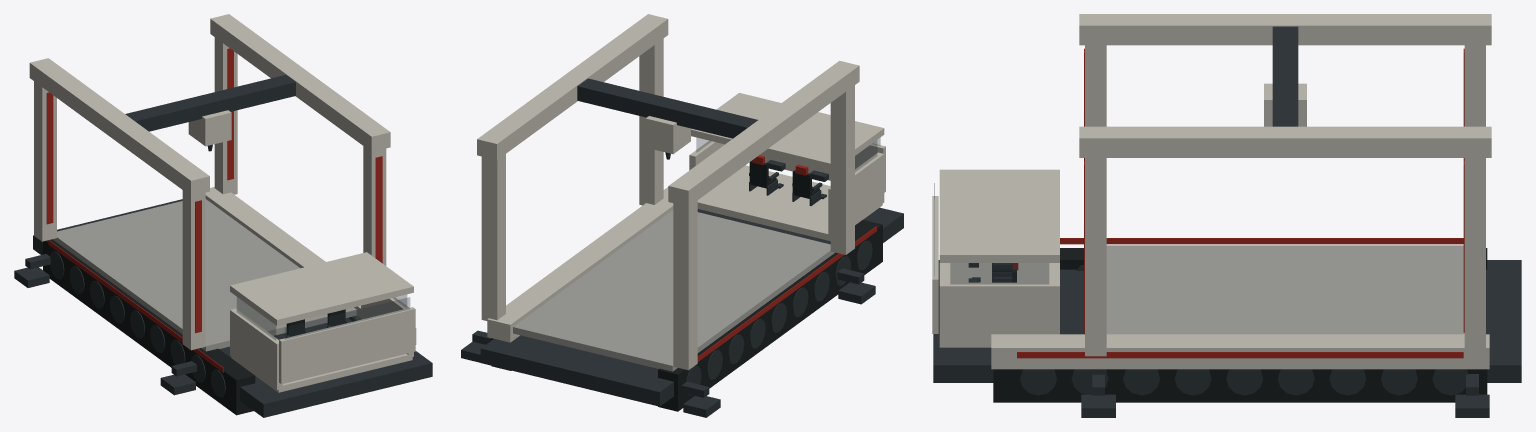
3 renders of one model, left to right at view 1: azimuth 30°, elevation 25°; view 2: azimuth 150°, elevation 25°; view 3: azimuth 270°, elevation 25°, orthographic. The views are drawn at different scales.
Visible parts, largest first — view 1: mobile-fabricator-painted, printer-gantry-painted, breakaway-1-painted, mobile-fabricator-glazing, printer-head-painted, stabilizer--1--5.7-painted, stabilizer--1-3-painted, crew-seating-batch-painted; view 2: mobile-fabricator-painted, breakaway-1-painted, printer-gantry-painted, crew-seating-batch-painted, printer-head-painted, stabilizer--1--5.7-painted, stabilizer--1-3-painted, stabilizer-1--5.7-painted, mobile-fabricator-glazing; view 3: mobile-fabricator-painted, breakaway-1-painted, printer-gantry-painted, mobile-fabricator-glazing, stabilizer-1--5.7-painted, stabilizer-1-3-painted, printer-head-painted, crew-seating-batch-painted.
Boxes of the visible parts, bbox=[...] form: mobile-fabricator-painted: bbox=[29, 14, 432, 417]; printer-gantry-painted: bbox=[125, 75, 295, 131]; breakaway-1-painted: bbox=[205, 187, 416, 344]; mobile-fabricator-glazing: bbox=[237, 295, 409, 339]; printer-head-painted: bbox=[188, 110, 231, 151]; stabilizer--1--5.7-painted: bbox=[14, 254, 50, 287]; stabilizer--1-3-painted: bbox=[160, 361, 196, 395]; crew-seating-batch-painted: bbox=[286, 309, 349, 337]; mobile-fabricator-painted: bbox=[477, 14, 903, 411]; breakaway-1-painted: bbox=[487, 187, 673, 342]; printer-gantry-painted: bbox=[577, 78, 757, 138]; crew-seating-batch-painted: bbox=[749, 155, 828, 205]; printer-head-painted: bbox=[645, 116, 690, 159]; stabilizer--1--5.7-painted: bbox=[681, 382, 720, 417]; stabilizer--1-3-painted: bbox=[837, 268, 875, 304]; stabilizer-1--5.7-painted: bbox=[461, 330, 491, 362]; mobile-fabricator-glazing: bbox=[696, 138, 880, 171]; mobile-fabricator-painted: bbox=[932, 14, 1521, 402]; breakaway-1-painted: bbox=[991, 334, 1489, 369]; printer-gantry-painted: bbox=[1272, 26, 1298, 126]; mobile-fabricator-glazing: bbox=[934, 183, 1048, 284]; stabilizer-1--5.7-painted: bbox=[1455, 374, 1489, 417]; stabilizer-1-3-painted: bbox=[1081, 374, 1115, 417]; printer-head-painted: bbox=[1264, 83, 1306, 126]; crew-seating-batch-painted: bbox=[968, 263, 1018, 282].
Bounding box in the file's own units: 42.68 × 37.45 × 73.68.
